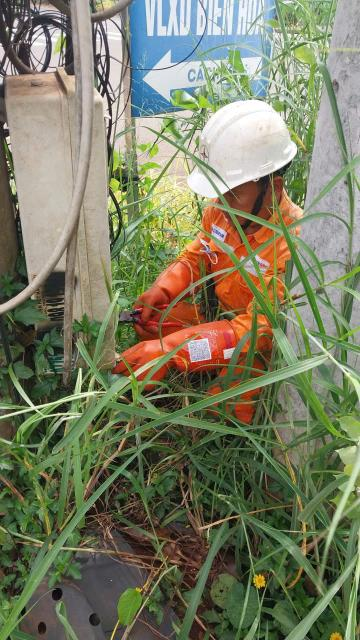gloves: (115, 317, 241, 392), (128, 253, 192, 346)
helmet: (182, 97, 284, 194)
